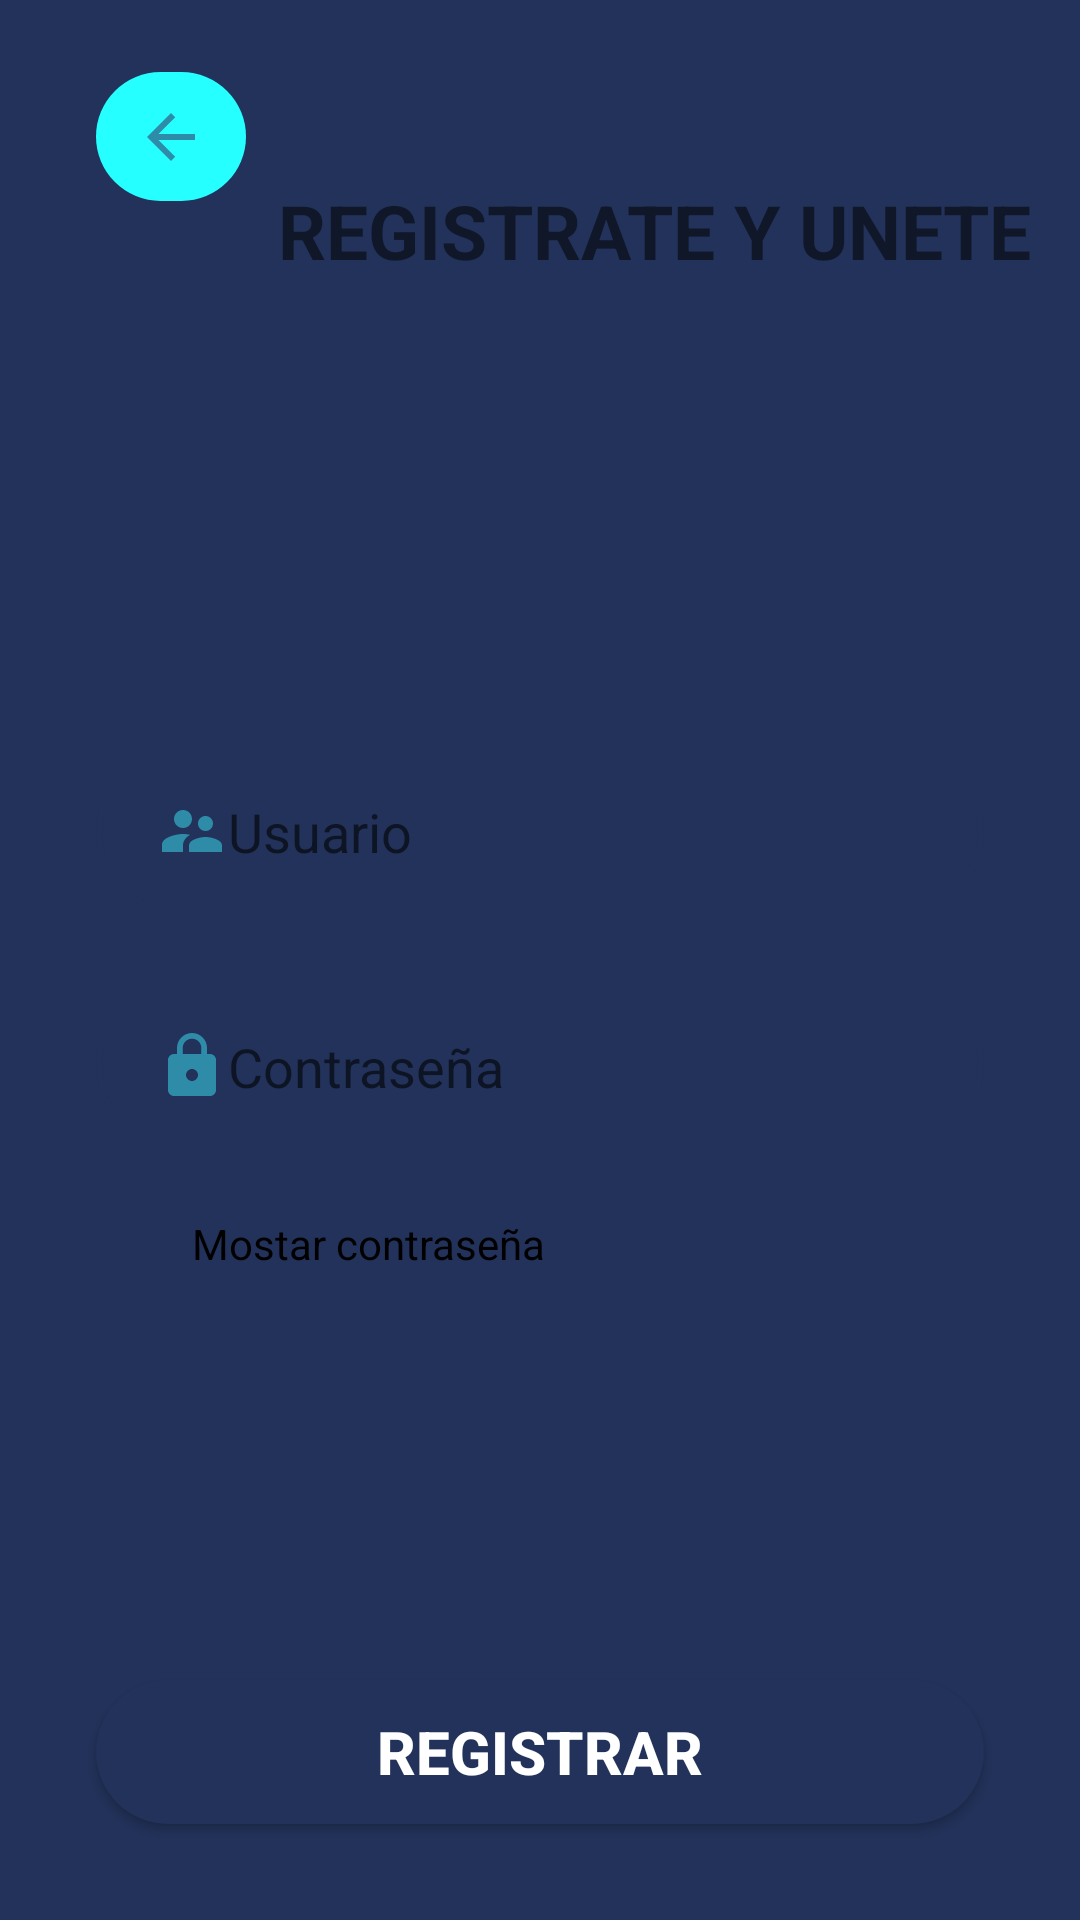

Icons on this 1080×1920 Android screen, each with the point to tap as (x,y):
volver: (171,136)
